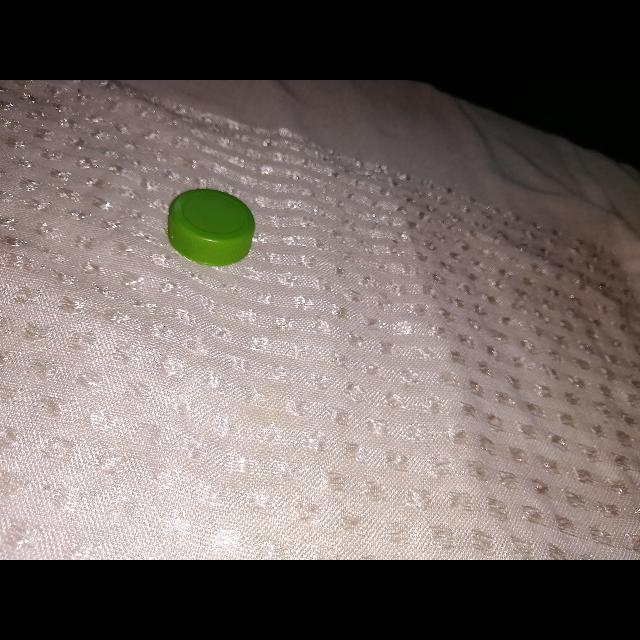plastic_bottle_cap: (168, 188, 255, 266)
